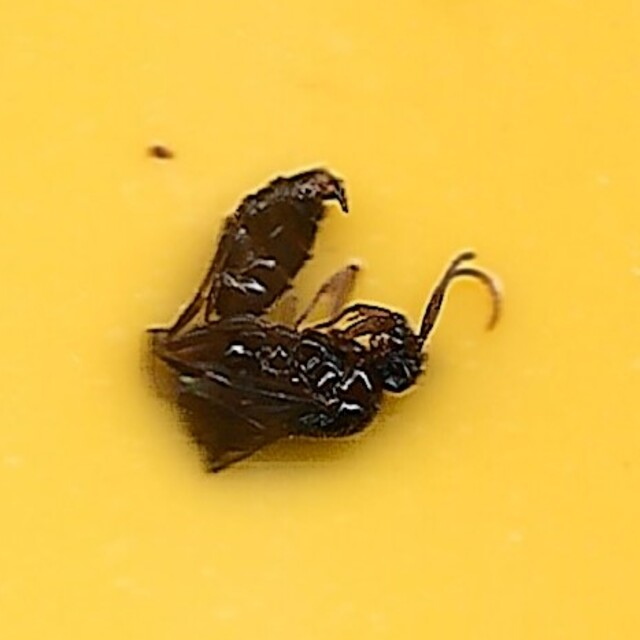Hymenoptera: (137, 164, 503, 476)
